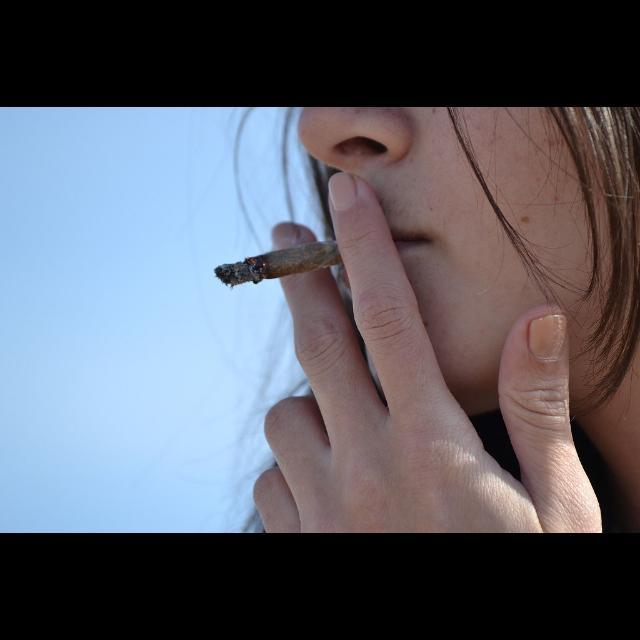rokok: (203, 235, 339, 295)
